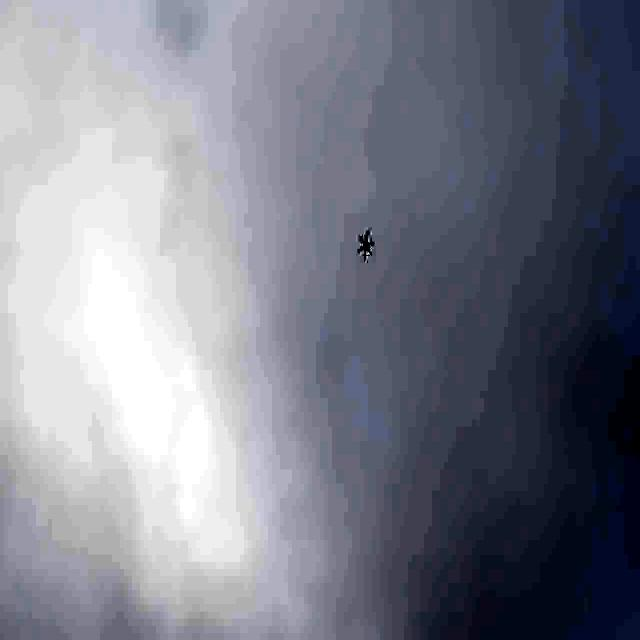drone: (355, 228, 375, 263)
